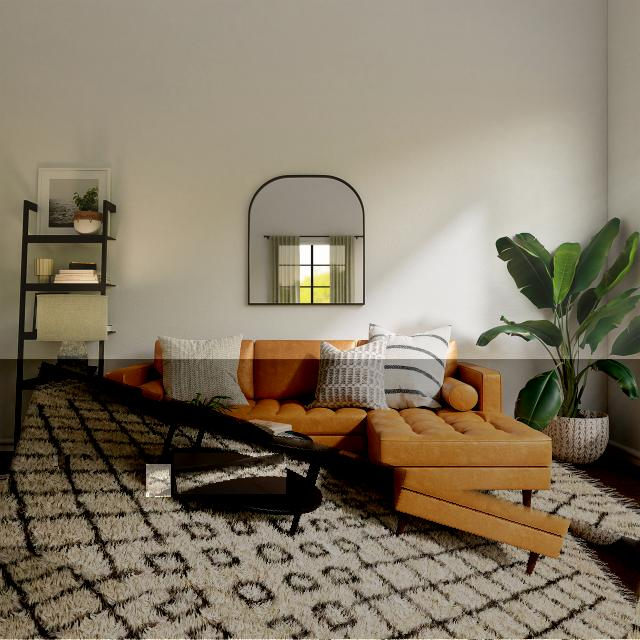floor: (0, 359, 640, 640), (175, 453, 286, 494), (146, 464, 171, 497), (59, 455, 65, 469), (65, 455, 69, 472), (53, 455, 58, 466)
